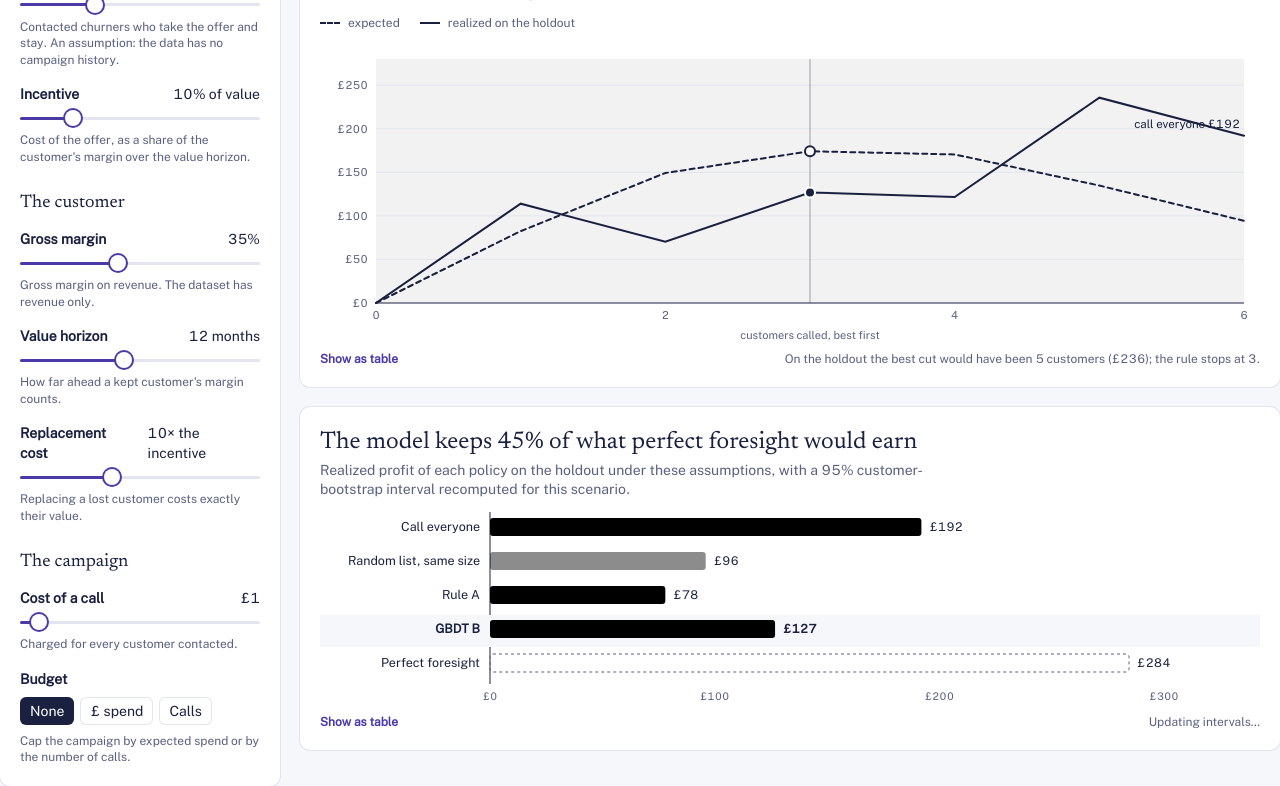
Test: the policy comparison names the share of perfect foresight
The width and height of the screenshot is (1280, 786).
(page scrolled)
Expected: the heading "The model keeps 45% of what perfect foresight would earn" is shown, [320,430,917,454]
Expected: the text "Call everyone" is shown, [401,519,480,534]
Click the button "Show as table" in the row of "Updating intervals…": {"x": 359, "y": 722} [320,714,398,730]
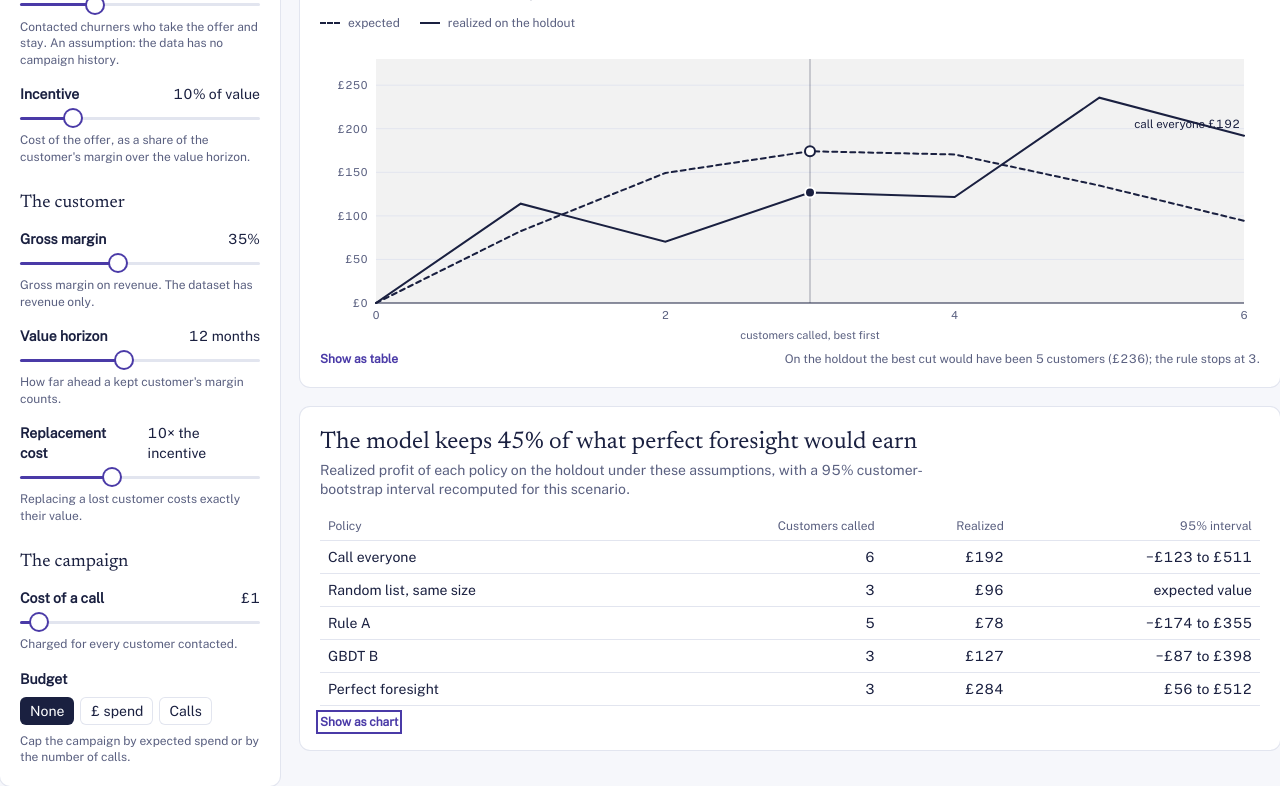
Result: the text "−£123 to £511" is shown 4 times at [1012,540,1260,573]; [1012,606,1260,639]; [1012,639,1260,672]; [1012,672,1260,705]
